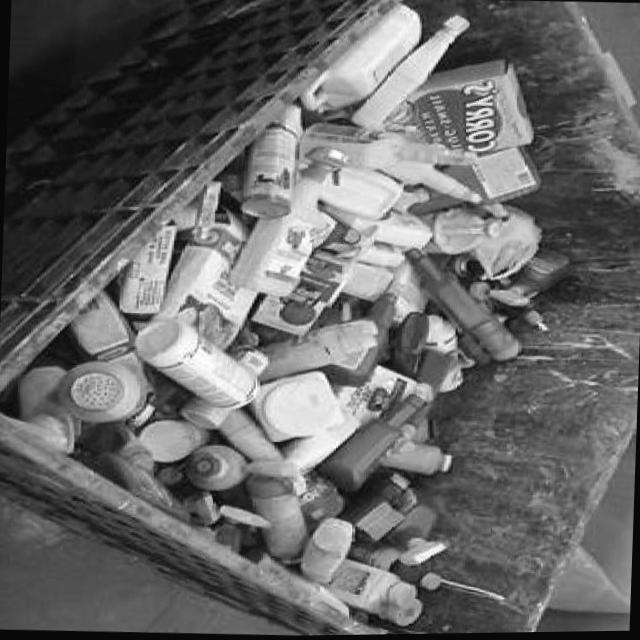Garbage: (3, 3, 570, 627)
Glass_bottle: (366, 543, 443, 591), (421, 208, 501, 254)
Plastic_bottle: (229, 147, 346, 297), (351, 15, 469, 130), (301, 5, 420, 111), (136, 317, 259, 408), (320, 394, 426, 491), (298, 123, 476, 170), (261, 320, 378, 381), (406, 248, 491, 331), (243, 106, 301, 216), (57, 360, 145, 421), (245, 475, 307, 559), (341, 470, 416, 539), (282, 411, 360, 472), (327, 560, 416, 613), (385, 495, 451, 565), (489, 251, 571, 306), (299, 518, 355, 583), (186, 444, 246, 490), (389, 312, 429, 377), (379, 441, 451, 475), (470, 319, 522, 362), (415, 350, 459, 390), (219, 504, 273, 528)
